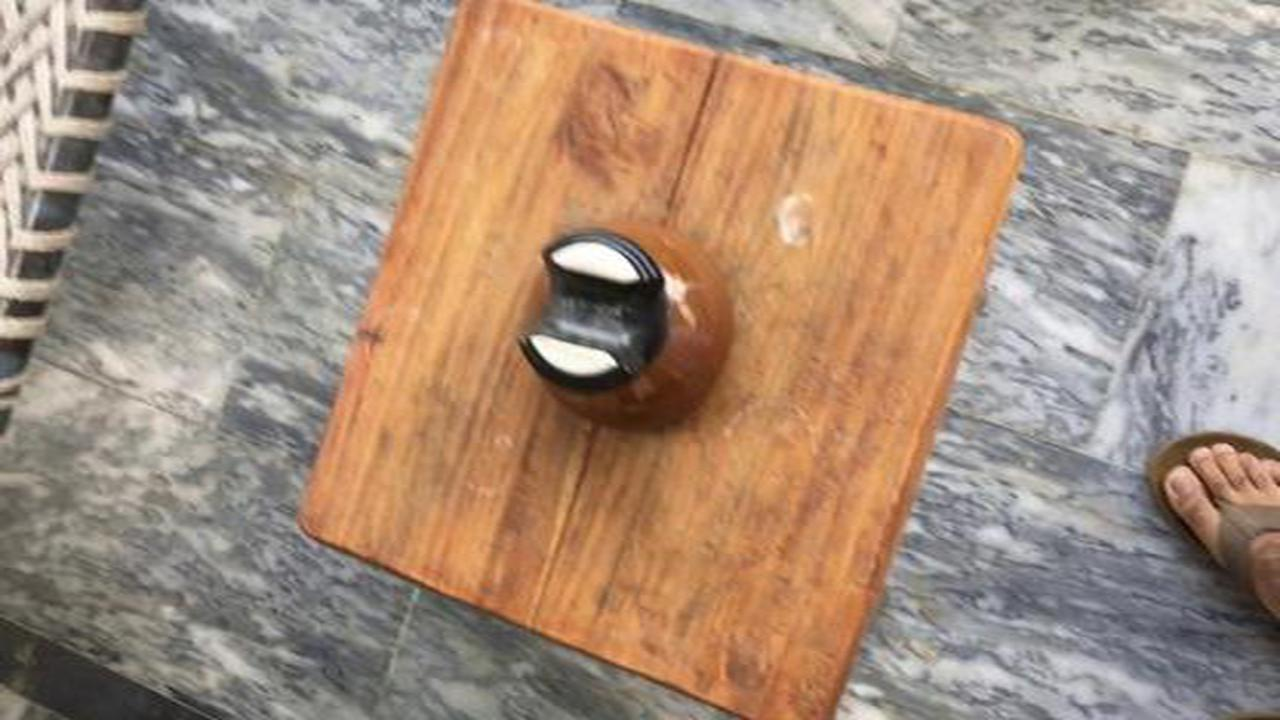insulator_pin: (508, 213, 757, 452)
